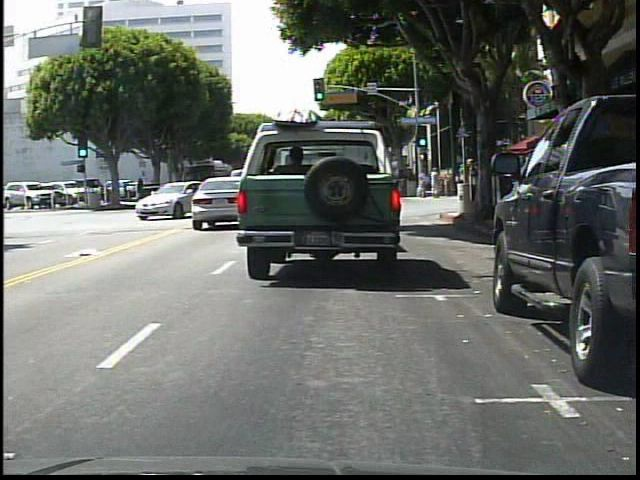person: (430, 165, 443, 197), (443, 165, 454, 196), (418, 168, 428, 197)
